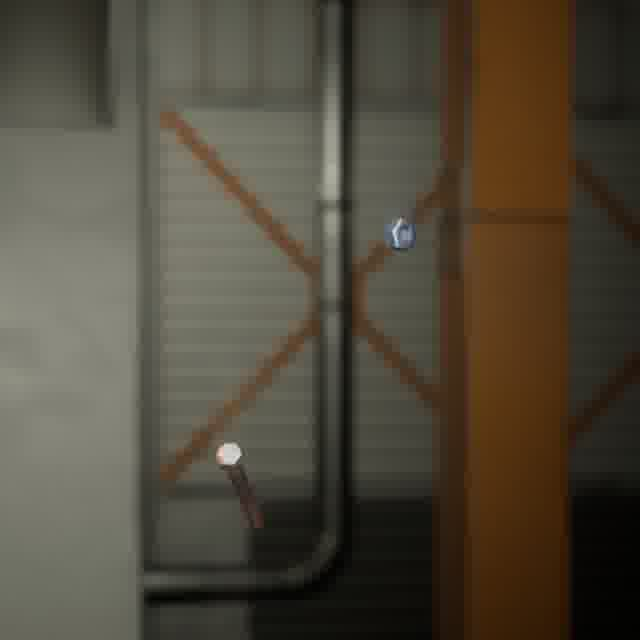bolt: (210, 438, 268, 533)
nut: (379, 214, 419, 254)
